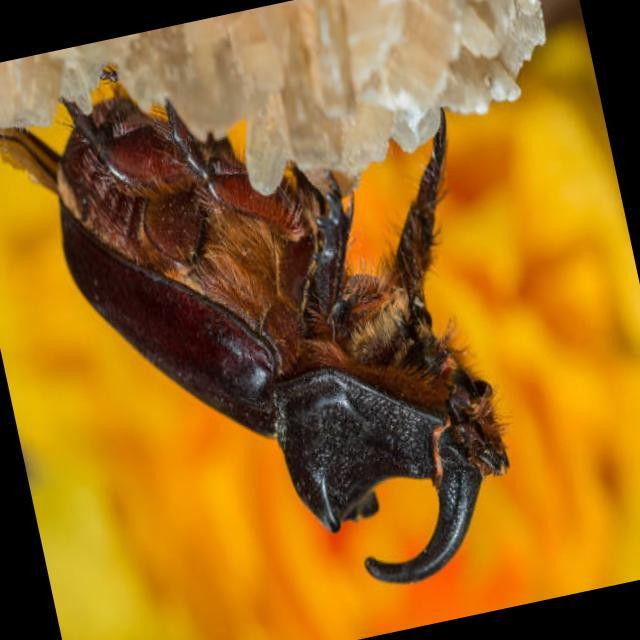Rhino-beetle: (31, 81, 572, 587)
